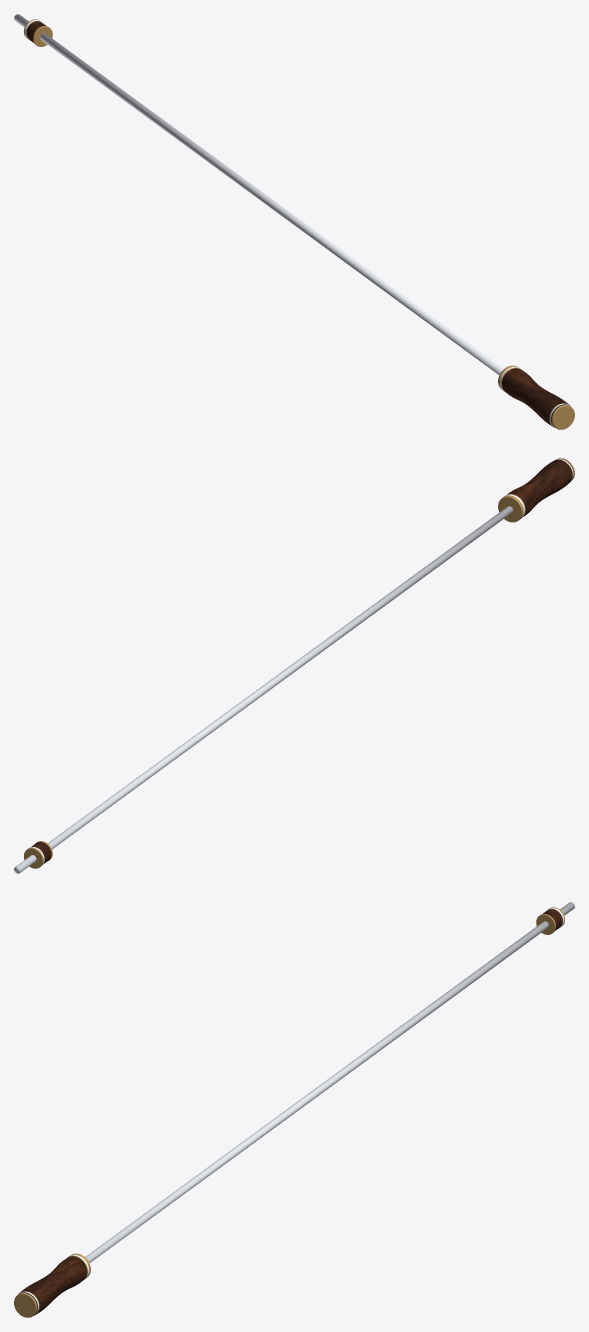
File: fuzeball_rod_5man.glb
3 renders of one model, top to bottom at view 1: azimuth 30°, elevation 25°; view 2: azimuth 150°, elevation 25°; view 3: azimuth 330°, elevation 25°, orthographic.
Parts seen in each view (by area): view 1: rod5_bar.002, rod5_handle_walnut_grip; view 2: rod5_bar.002, rod5_handle_walnut_grip; view 3: rod5_bar.002, rod5_handle_walnut_grip.
Boxes of the visible parts, box(x1,y1,x2,y2) form: rod5_bar.002: box(14, 14, 503, 374); rod5_handle_walnut_grip: box(502, 368, 569, 427); rod5_bar.002: box(14, 506, 513, 873); rod5_handle_walnut_grip: box(507, 459, 572, 516); rod5_bar.002: box(85, 902, 574, 1262); rod5_handle_walnut_grip: box(19, 1256, 86, 1315).
Bounding box in the file's own units: 2.8 × 2.8 × 109.
5 materials, 1 textured.
